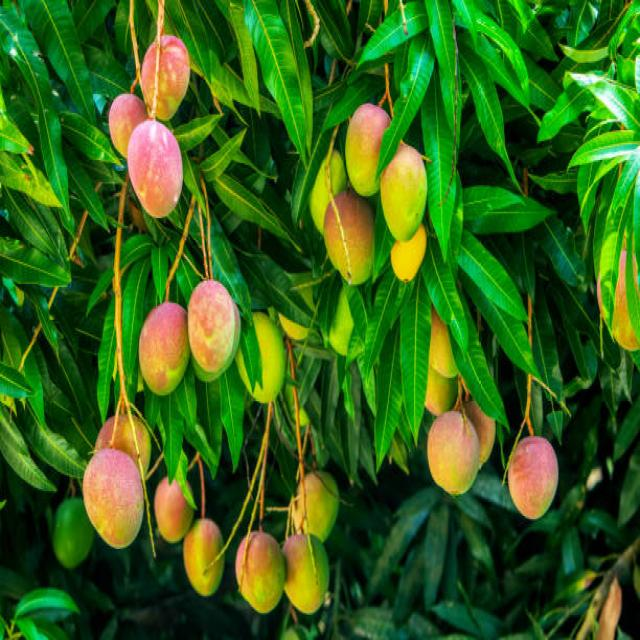mango: (84, 448, 142, 548), (141, 4, 190, 119), (188, 279, 241, 382), (129, 120, 181, 217), (139, 302, 190, 396), (324, 189, 374, 284), (380, 144, 428, 242), (345, 103, 391, 196), (428, 411, 479, 494), (235, 531, 285, 613), (509, 437, 558, 518), (282, 536, 329, 614), (288, 472, 338, 541), (96, 416, 151, 472), (184, 519, 224, 595), (155, 478, 194, 543), (109, 94, 148, 157), (465, 401, 496, 468)
